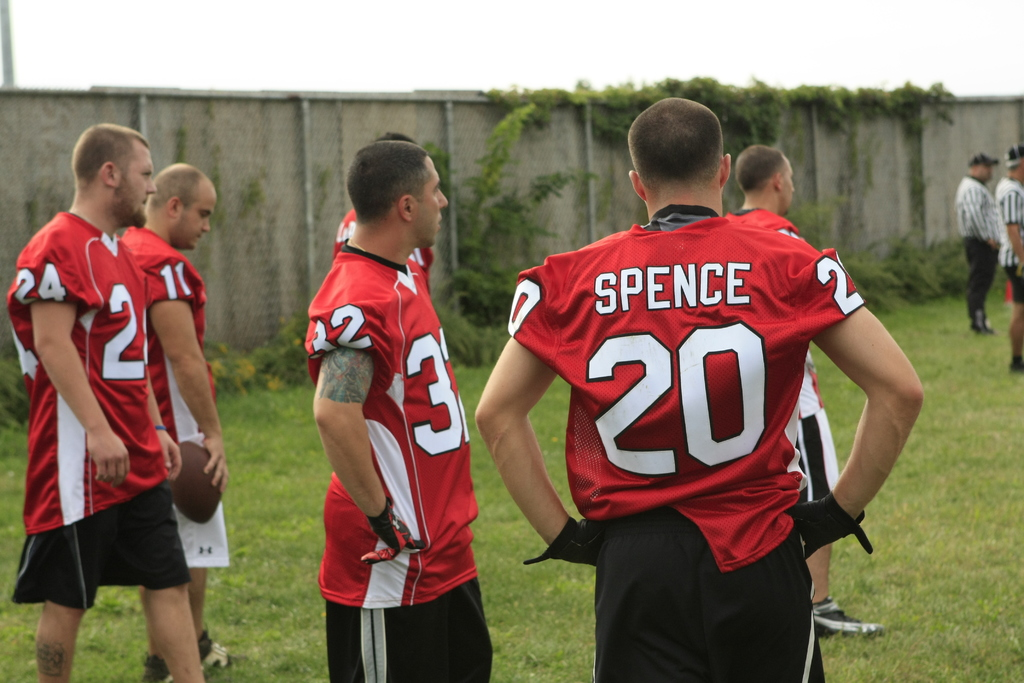Person: (470, 94, 927, 683), (6, 119, 206, 683), (304, 136, 493, 683), (725, 142, 886, 639), (118, 159, 238, 683), (333, 130, 433, 297), (955, 152, 999, 332), (994, 144, 1024, 372)
